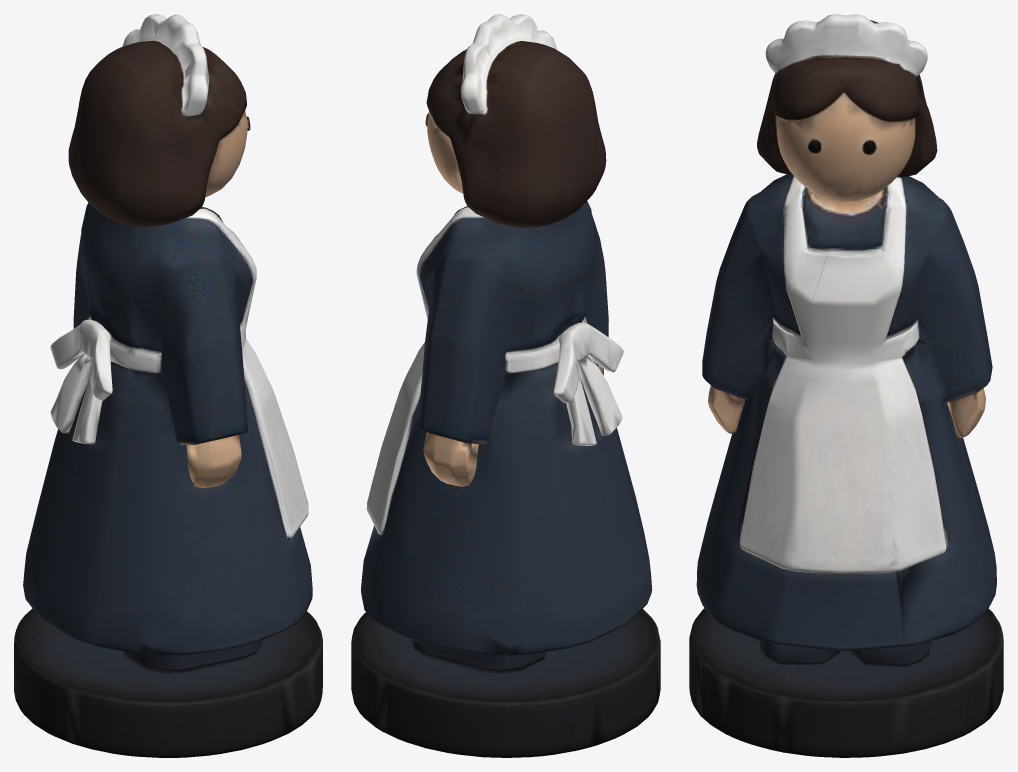
File: person_maid.glb
3 views of the same model, side by side, from view 1: azimuth 30°, elevation 25°; view 2: azimuth 150°, elevation 25°; view 3: azimuth 270°, elevation 25° (orthographic).
Visible parts, largest first — view 1: tripo_node_cc5a8a65-85d8-4fc9-ac7a-3b0ec311cd58; view 2: tripo_node_cc5a8a65-85d8-4fc9-ac7a-3b0ec311cd58; view 3: tripo_node_cc5a8a65-85d8-4fc9-ac7a-3b0ec311cd58.
Boxes of the visible parts, x1=… form: tripo_node_cc5a8a65-85d8-4fc9-ac7a-3b0ec311cd58: x1=14, y1=14, x2=322, y2=757; tripo_node_cc5a8a65-85d8-4fc9-ac7a-3b0ec311cd58: x1=351, y1=14, x2=660, y2=757; tripo_node_cc5a8a65-85d8-4fc9-ac7a-3b0ec311cd58: x1=689, y1=14, x2=1003, y2=757.
Size of the model in its own units: 0.4165 by 0.9995 by 0.4165.
Materials: 1 (1 with a texture image).
